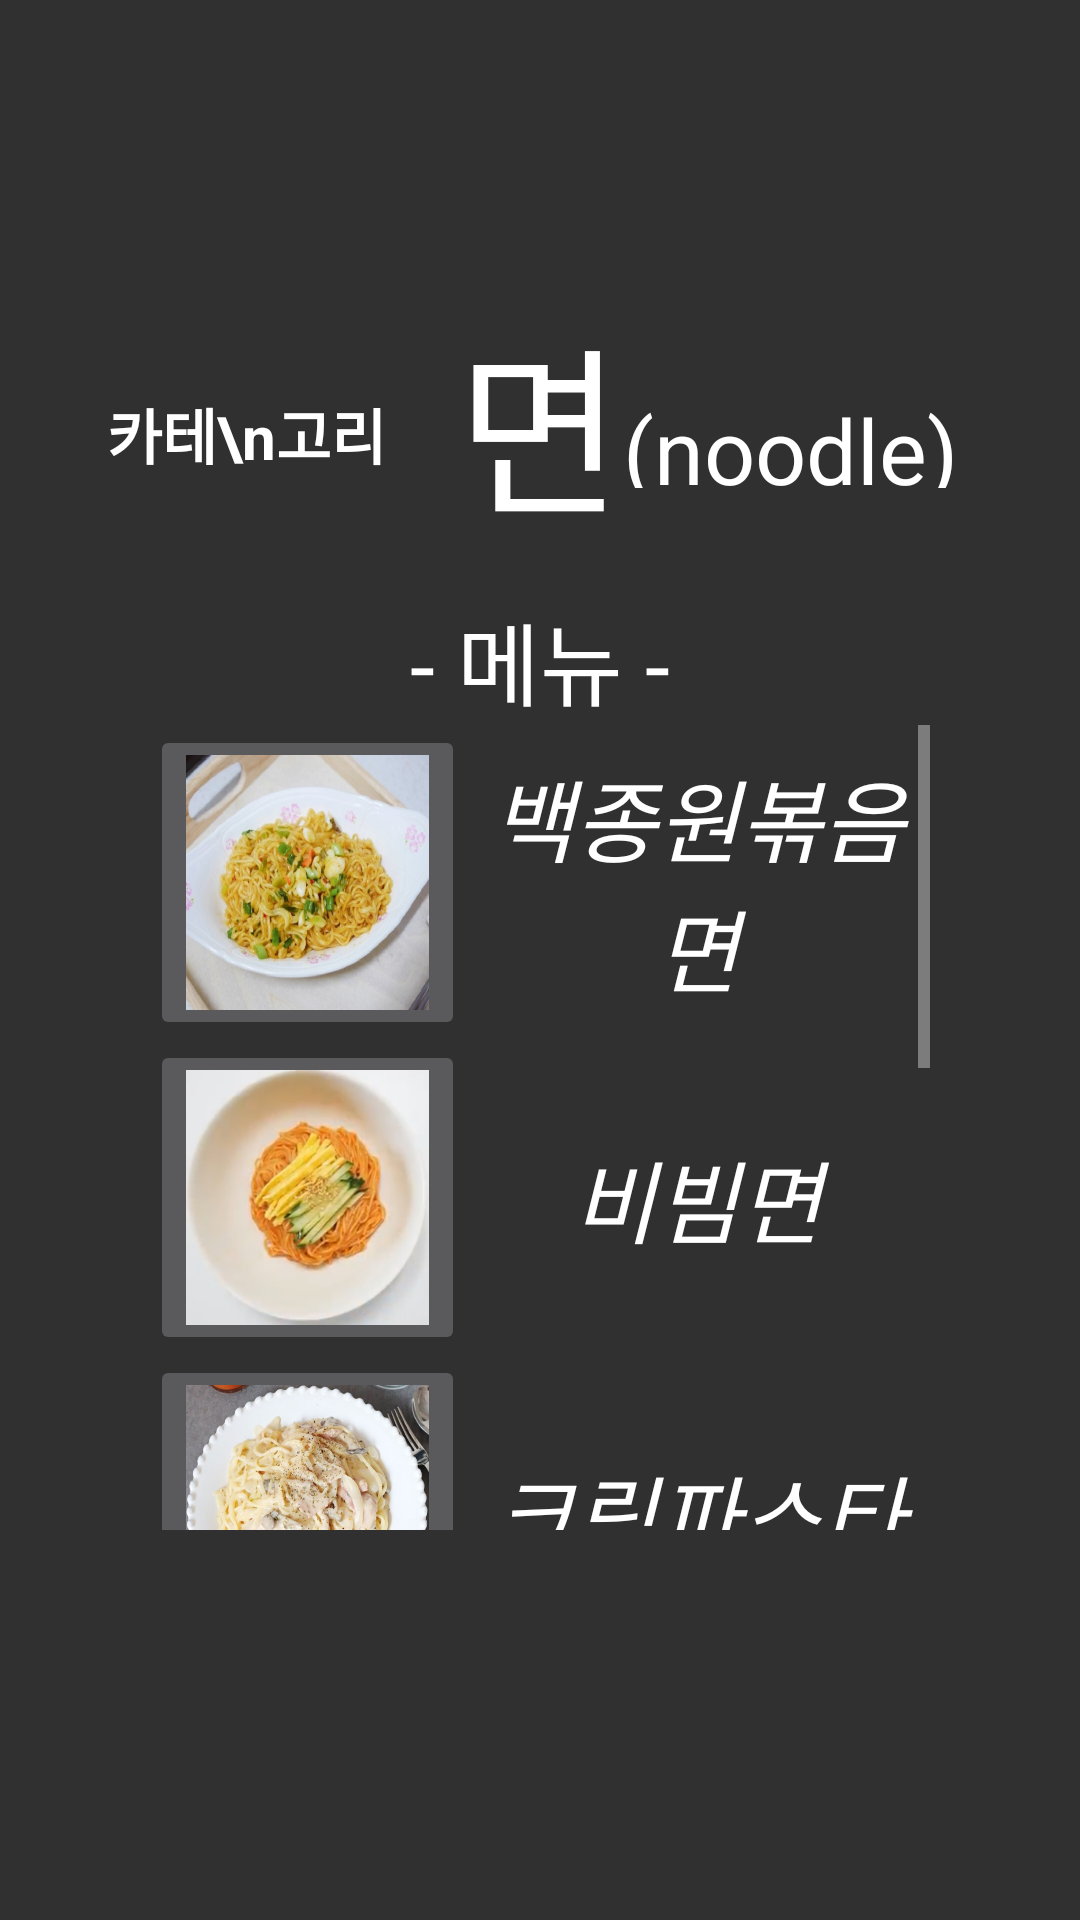

Icons on this 1080×1920 Android screen, each with its box as (x1, y1, x2, y2):
baekfried: (162, 743, 453, 1022)
bibim: (162, 1058, 453, 1337)
